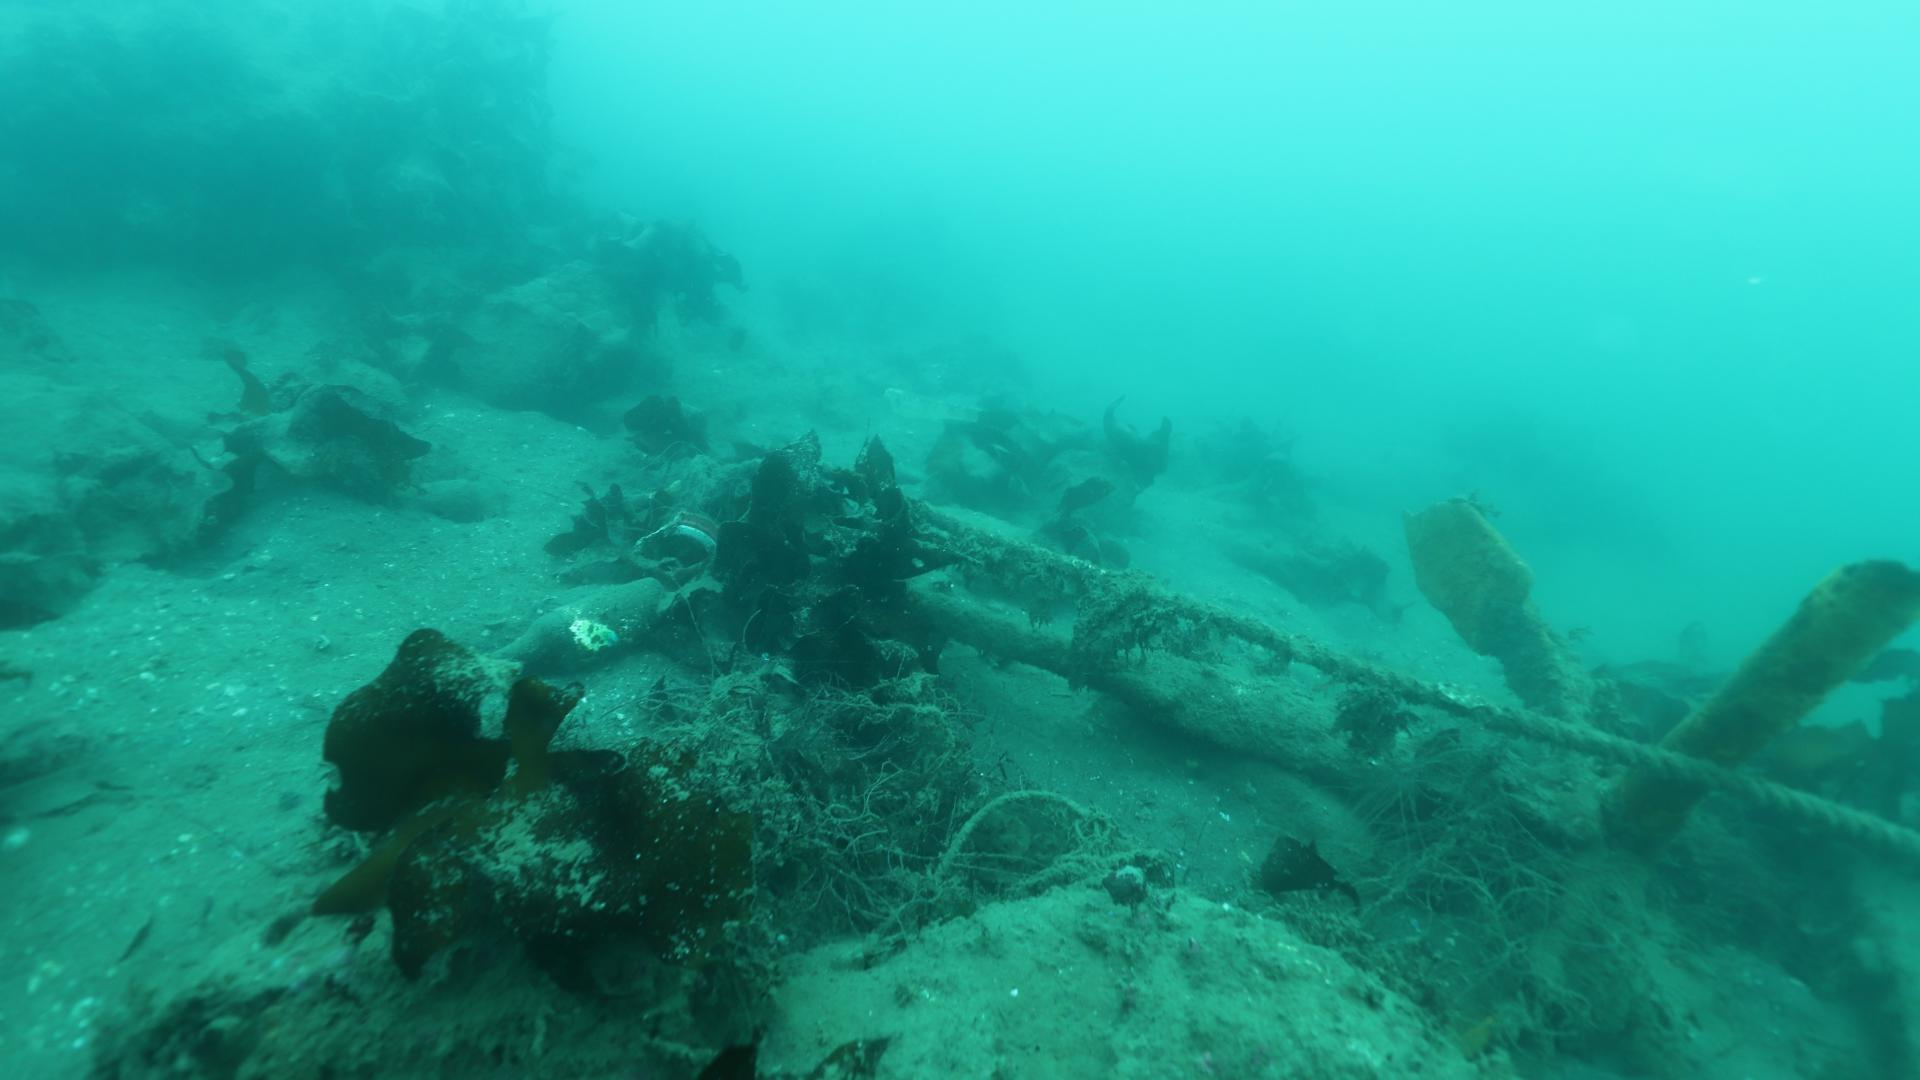rope: (735, 450, 1920, 862)
